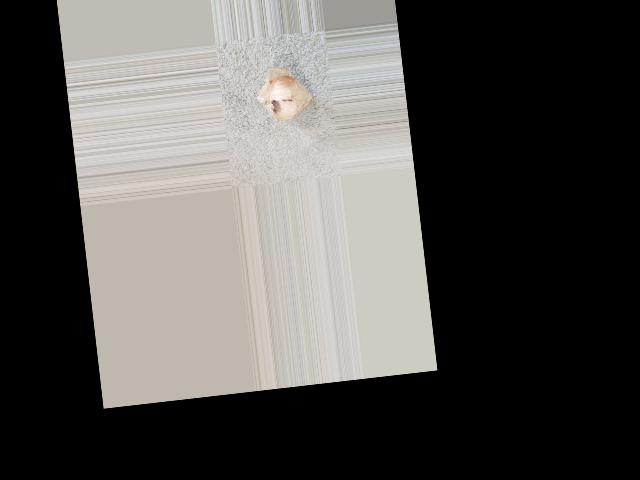onion: (262, 73, 313, 124)
